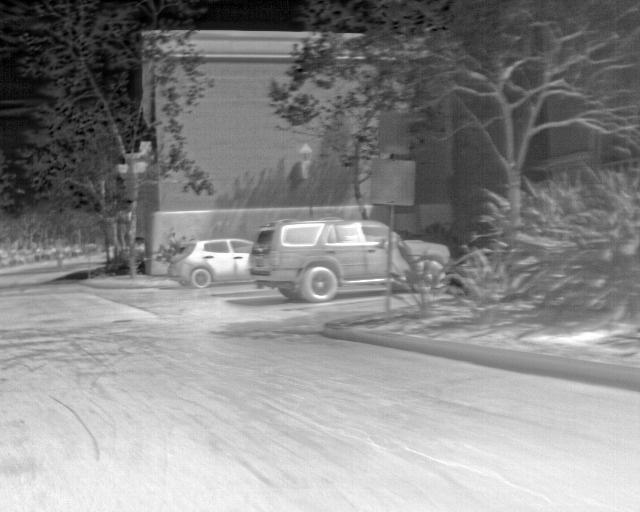car: (248, 217, 388, 303), (167, 239, 250, 291), (394, 229, 450, 292)
